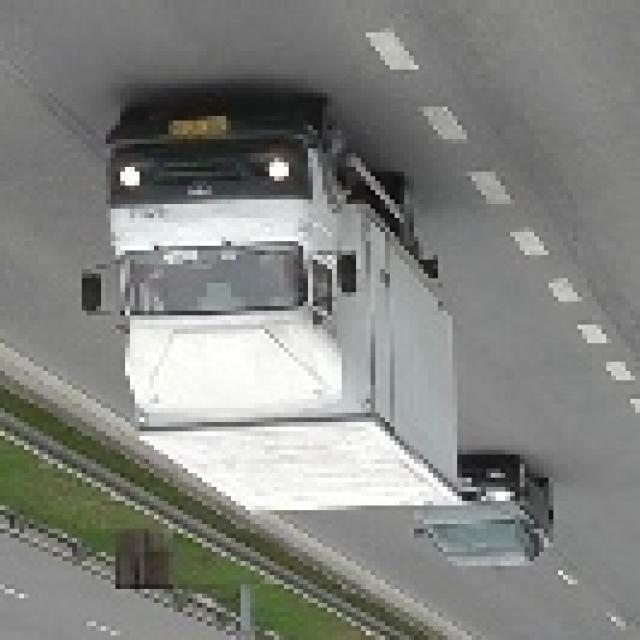Truck: (82, 88, 462, 515)
